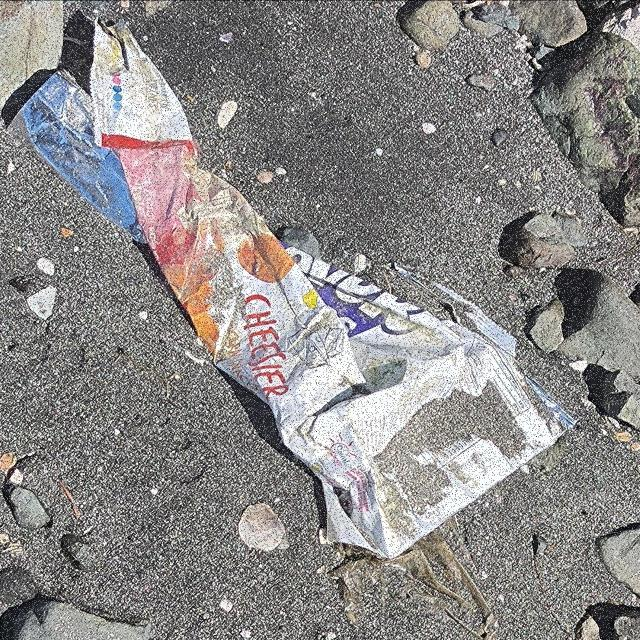plastic_waste: (5, 15, 581, 562)
